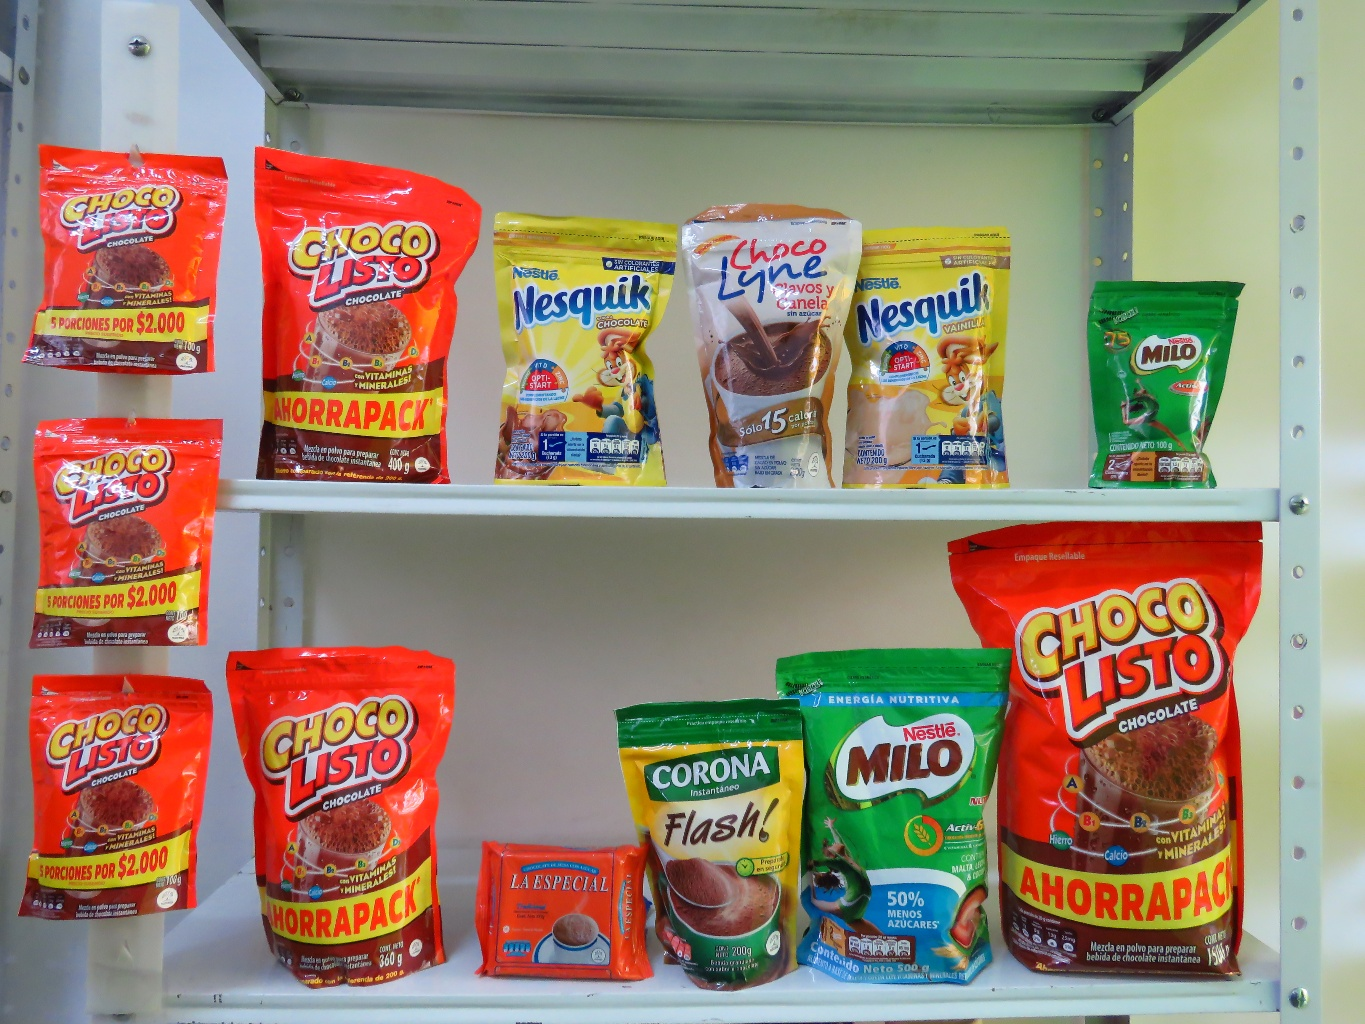COL0170103DYP1,500: (954, 510, 1275, 986)
COL0170103DYP10000: (17, 673, 204, 919)
COL0170103DYP36000: (233, 631, 464, 989)
COL0170103DYP40000: (241, 139, 473, 478)
COL0170203DYP10000: (1083, 270, 1251, 498)
COL0170205DYP50000: (772, 641, 1020, 991)
COL0170303DYP20000: (489, 202, 681, 475)
COL0170306DYP20000: (839, 221, 1016, 496)
